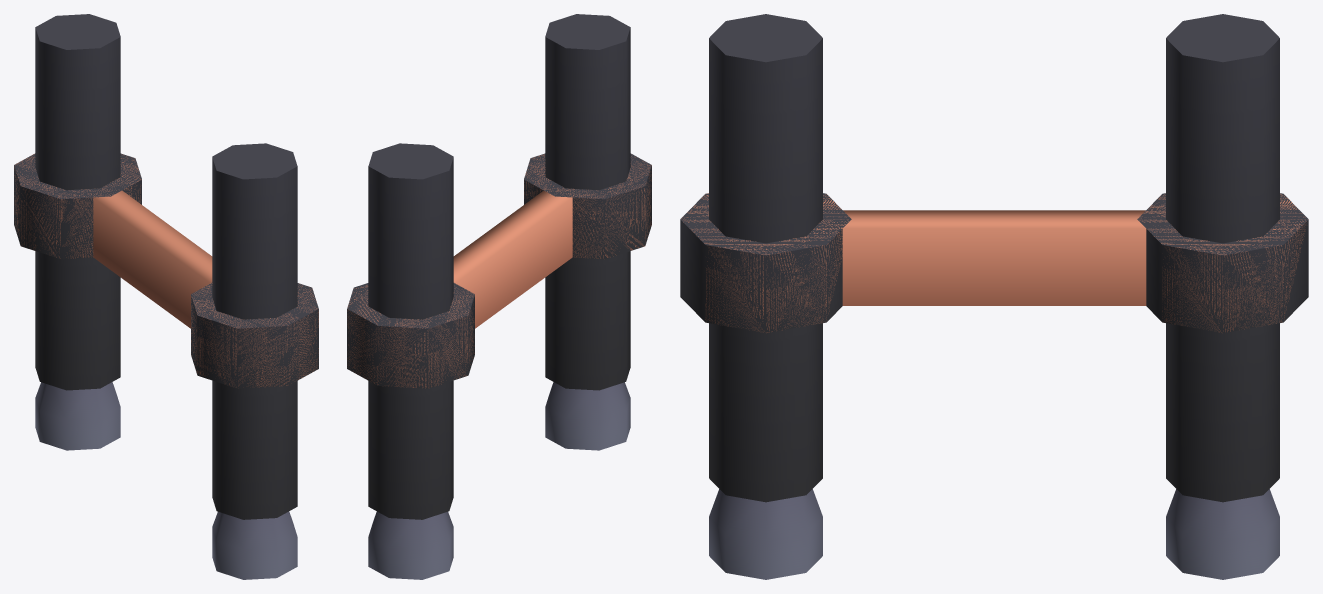
File: structure-medium.obj
3 renders of one model, left to right at view 1: azimuth 30°, elevation 25°; view 2: azimuth 150°, elevation 25°; view 3: azimuth 270°, elevation 25°, orthographic. The views are drawn at different scales.
Visible parts, largest first — view 1: structure-medium; view 2: structure-medium; view 3: structure-medium.
Part boxes in pixels (x1,y1,x2,y2): structure-medium: [14, 14, 318, 579]; structure-medium: [347, 14, 651, 579]; structure-medium: [680, 14, 1308, 579].
Bounding box in the file's own units: 0.3 × 1 × 1.1.
